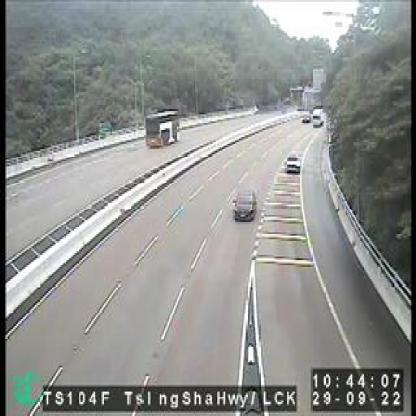Bus: (143, 106, 178, 146)
Car: (232, 184, 258, 218), (281, 149, 300, 172), (310, 109, 322, 127)
